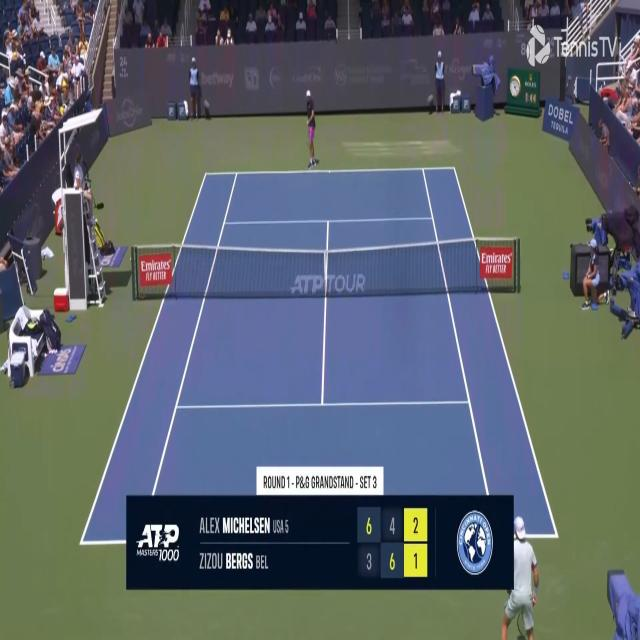tennis-player: (498, 510, 542, 640), (304, 86, 318, 171)
